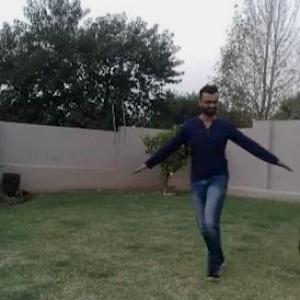land: (132, 94, 288, 266)
